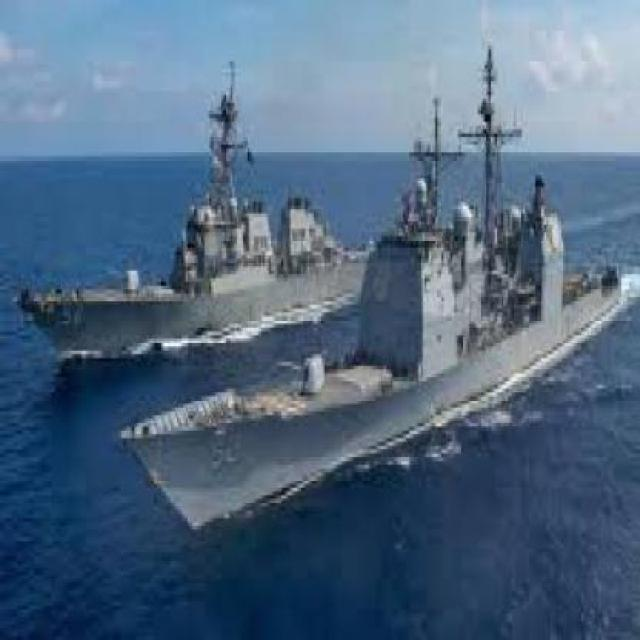warship2: (149, 42, 624, 558), (16, 50, 363, 363)
